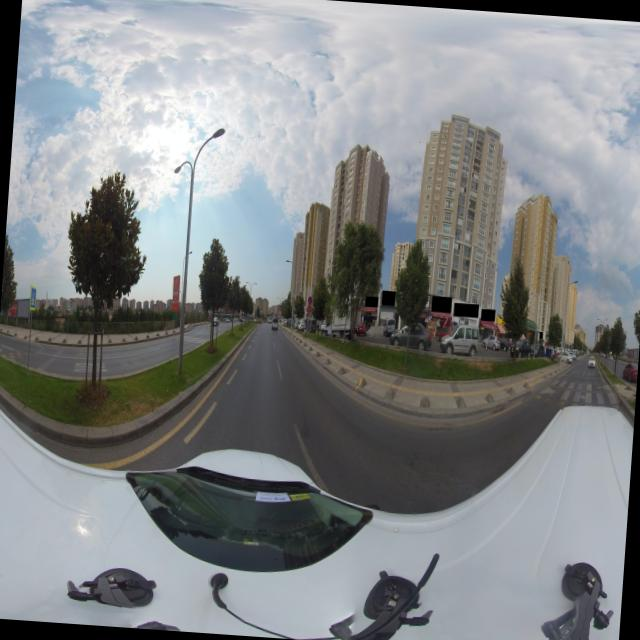SignStore: (453, 302, 478, 317), (431, 296, 452, 313), (381, 291, 395, 306), (480, 308, 495, 321), (365, 297, 378, 307), (539, 331, 542, 338)
